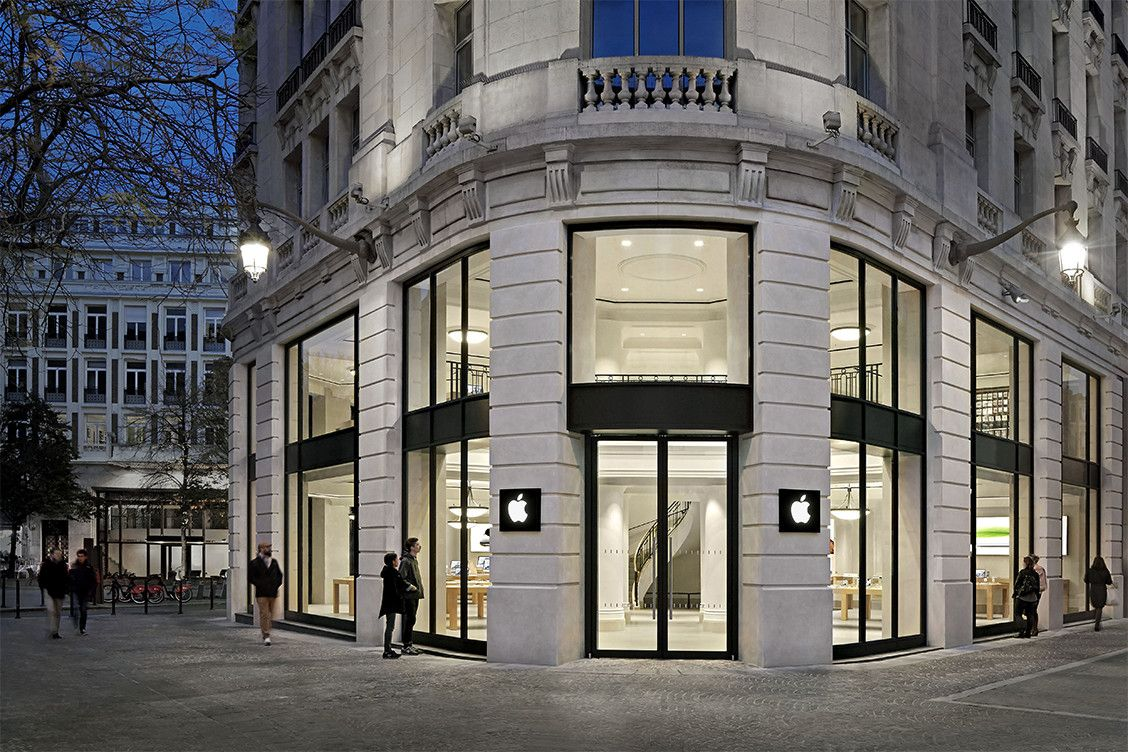apple: (499, 489, 539, 529), (786, 491, 817, 529)
